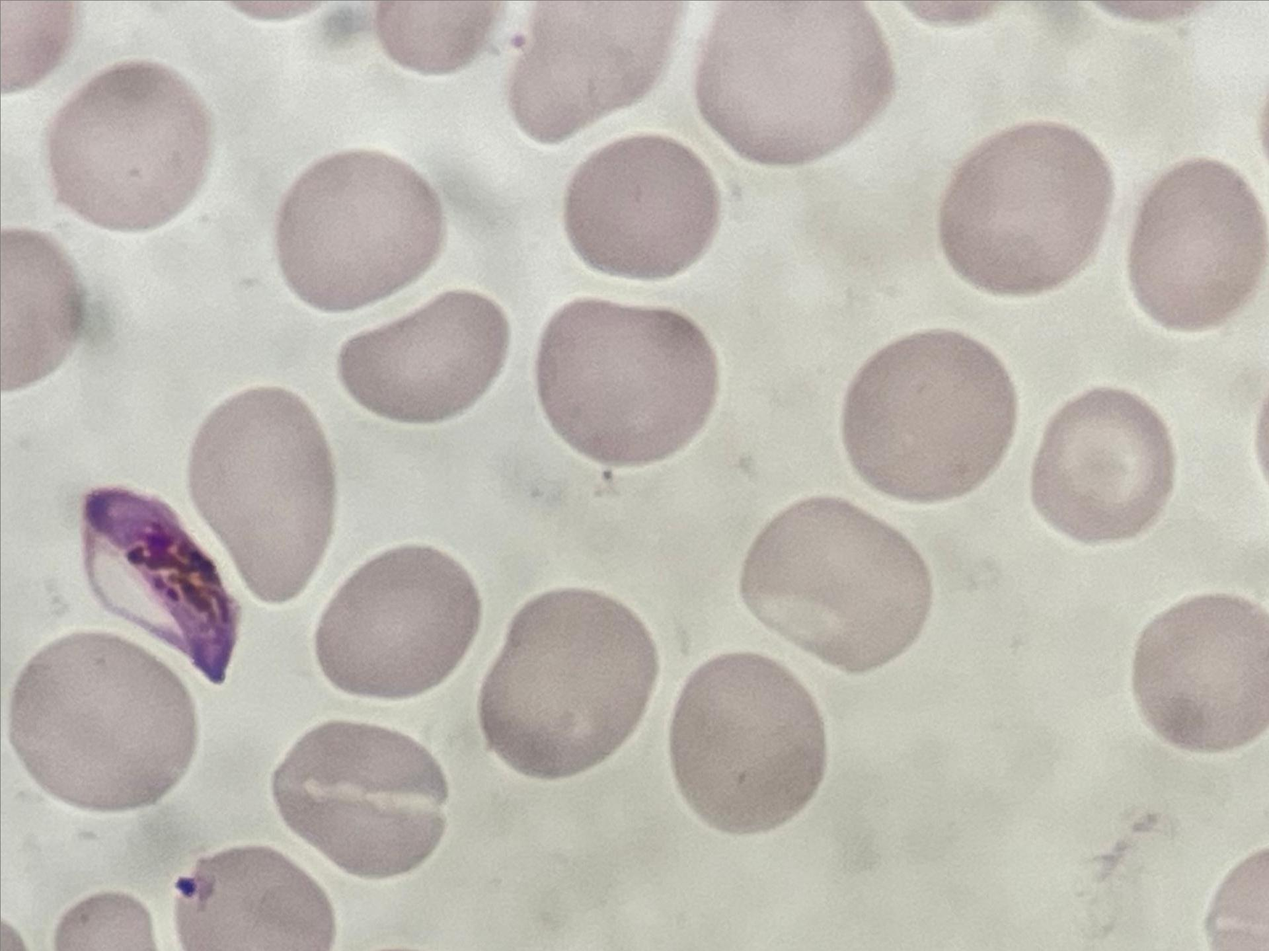Infected: (74, 483, 243, 687), (171, 844, 338, 951)
Uninfected: (737, 494, 931, 672), (481, 589, 659, 781), (10, 633, 195, 810), (696, 0, 894, 165), (188, 384, 331, 605), (539, 296, 718, 469), (841, 327, 1016, 502), (940, 119, 1112, 296), (46, 58, 215, 234), (668, 653, 828, 836), (276, 149, 447, 313), (274, 721, 446, 877), (316, 541, 482, 697), (506, 0, 683, 143), (1129, 157, 1269, 332), (1029, 387, 1176, 546), (340, 288, 510, 424), (565, 134, 722, 281), (1129, 595, 1269, 756)
